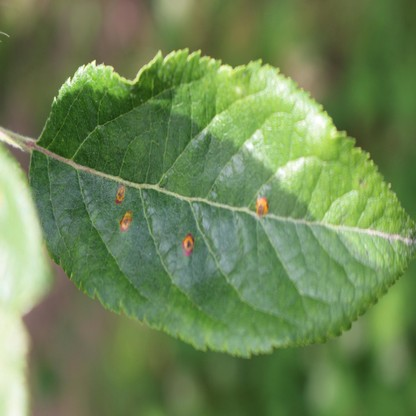rust: (182, 234, 193, 258), (256, 198, 269, 215), (121, 211, 132, 231), (116, 186, 124, 202)
